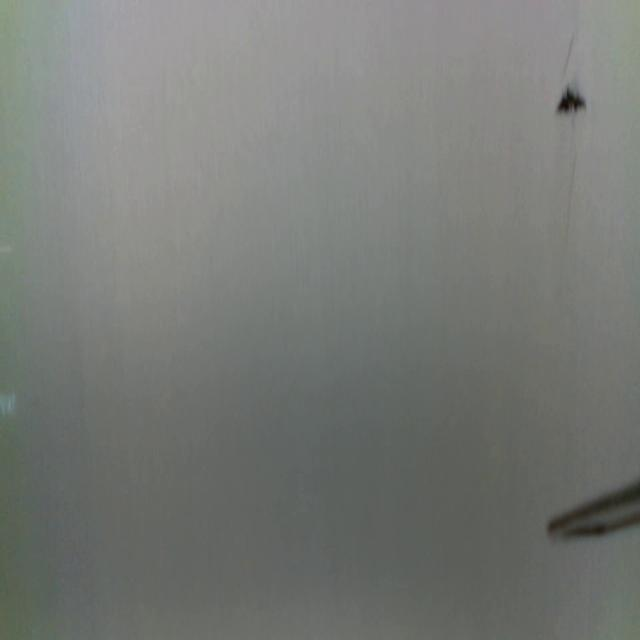hole: (553, 84, 587, 118)
